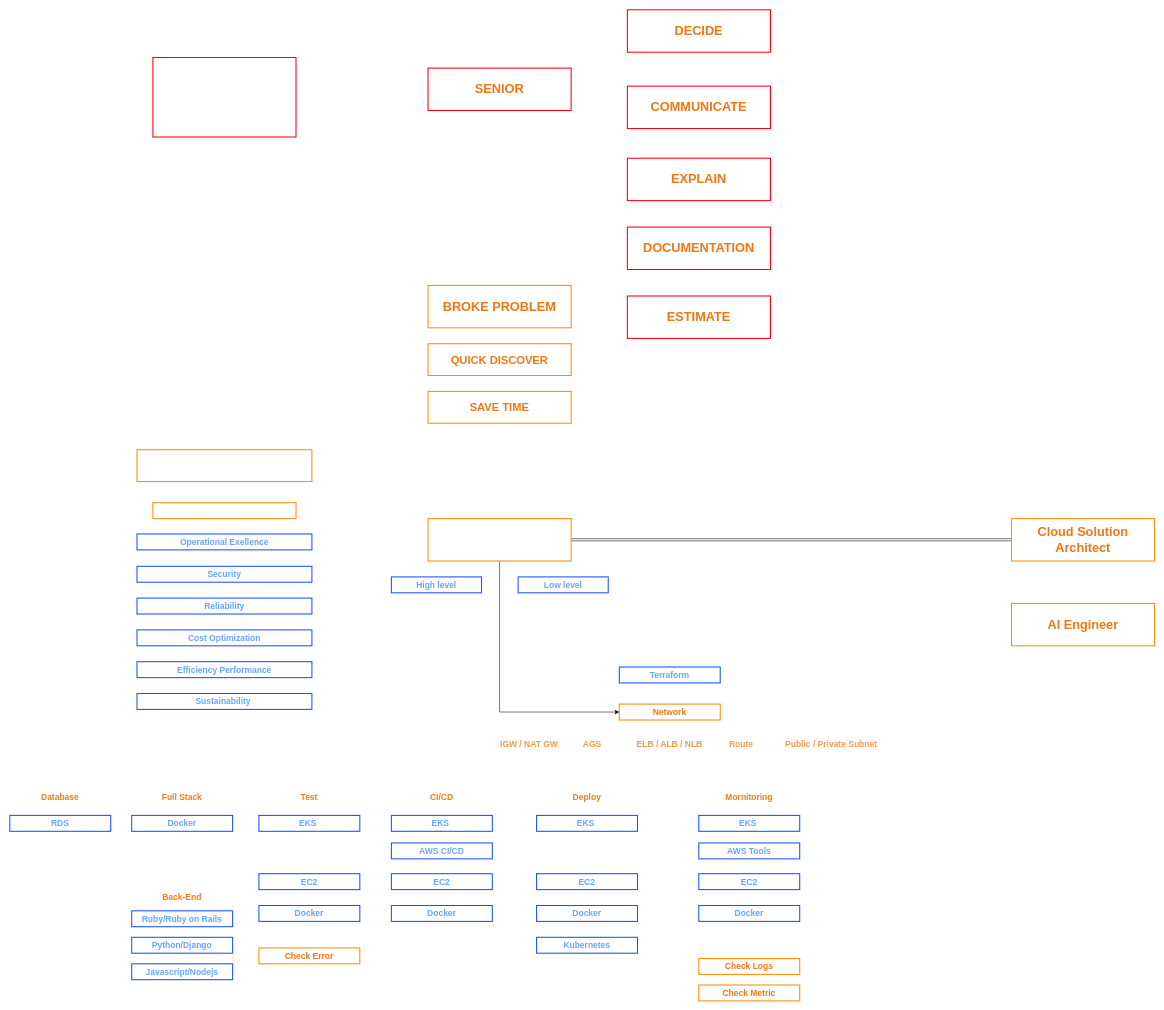
Image size: 1164x1010. Some labels were removed from this diagram. Each missing label, with the centre of its shape:
BUSSINESS: point 224,97
DEMAND: point 224,465
Design System: point 499,539
Well Architecture Frame: point 224,510
